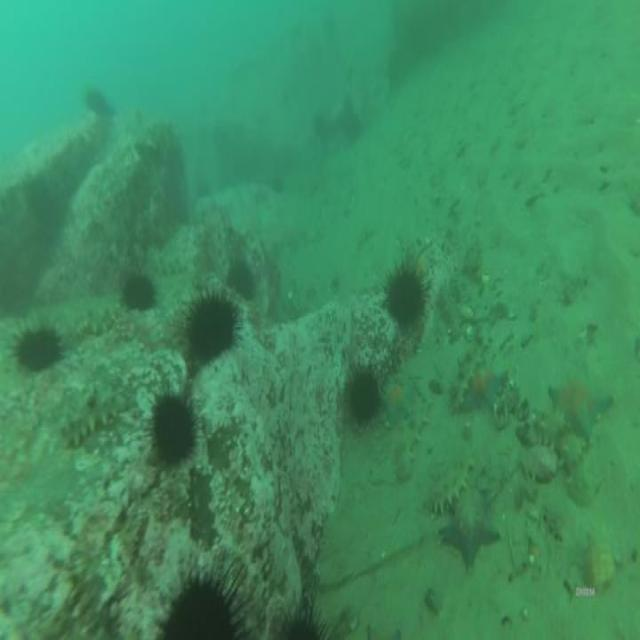echinus: (159, 575, 237, 640), (150, 397, 197, 463), (193, 297, 234, 360), (387, 269, 424, 330), (15, 332, 60, 374), (352, 373, 383, 420), (229, 259, 256, 297), (86, 88, 107, 117)
holothurian: (57, 396, 131, 446), (429, 450, 471, 512), (544, 416, 583, 472), (406, 393, 430, 460), (75, 304, 121, 338), (150, 253, 190, 278)
starfish: (441, 495, 499, 575), (548, 379, 612, 436), (462, 362, 508, 414)
